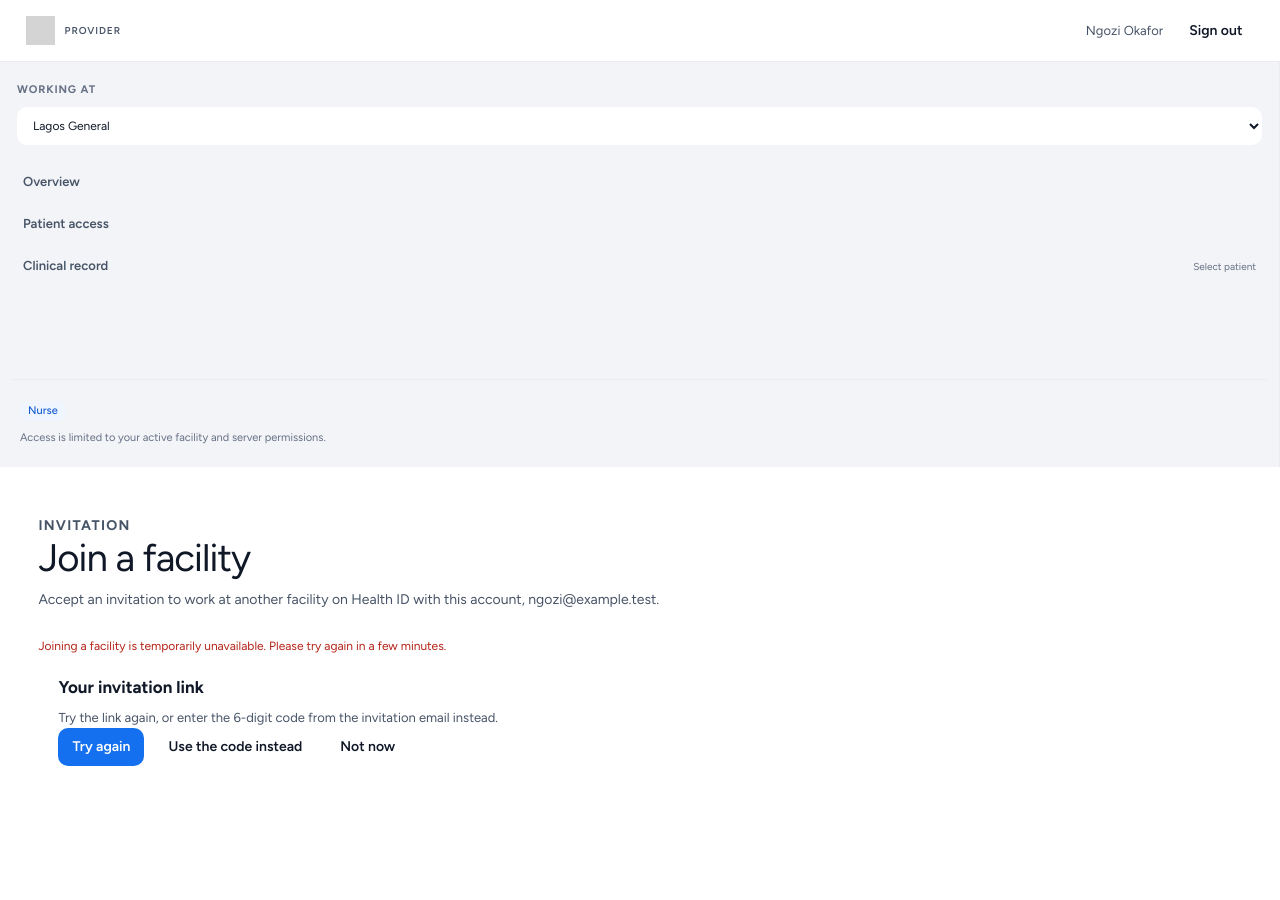
Test: joining signed in › lets the person use the email’s code instead of a held link that did not work, forgetting the link
Click the button "Use the code instead" at (235, 747), box [154,728,316,766]
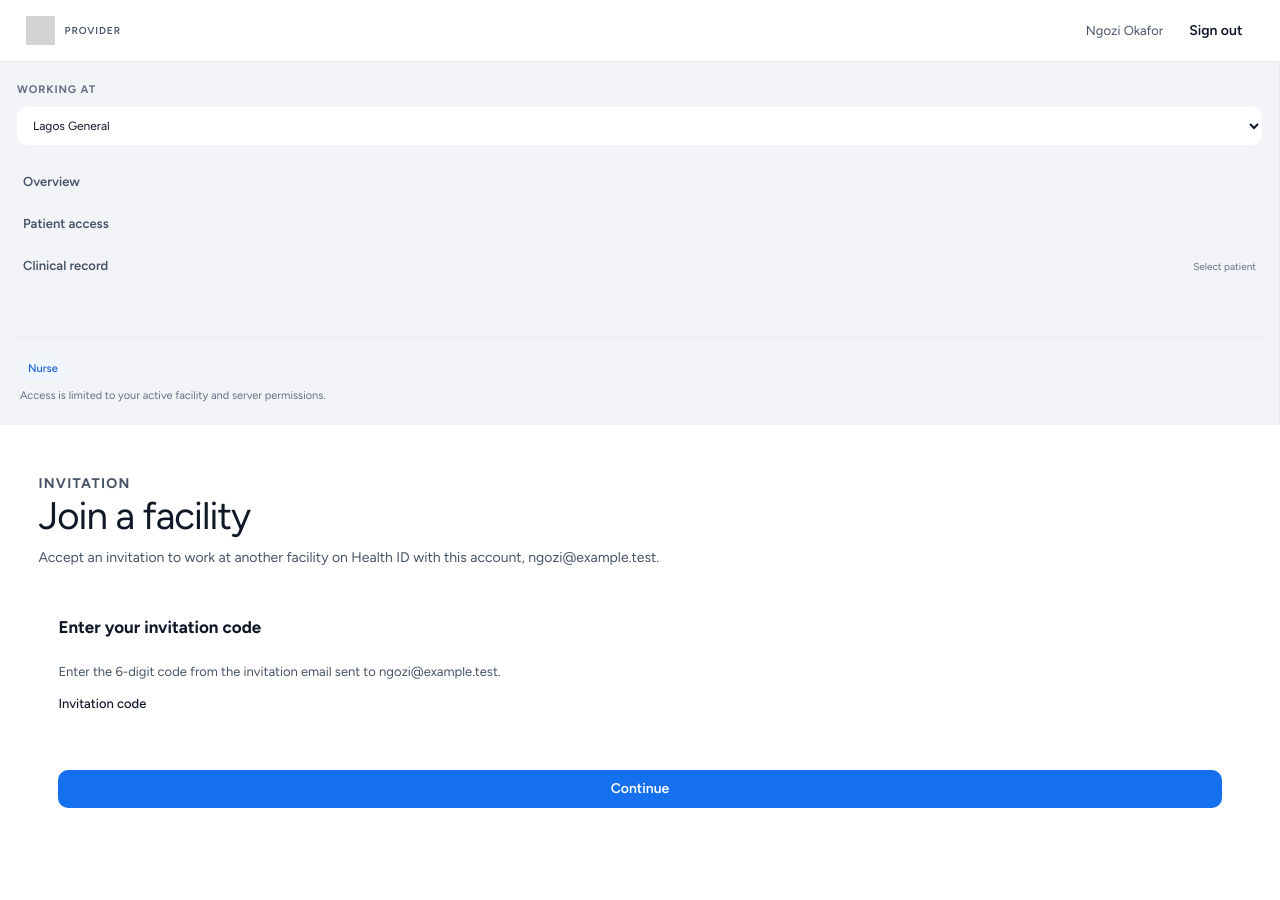
Expected: the message "try again" is gone
